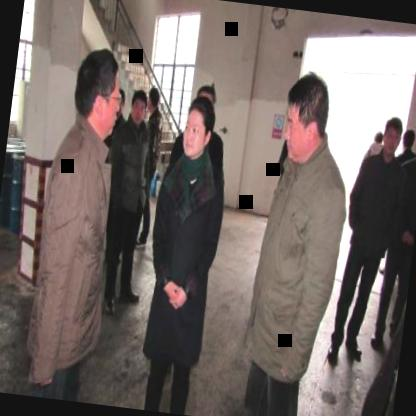head: (68, 42, 126, 144), (277, 67, 335, 166), (178, 90, 220, 162), (378, 113, 406, 156), (126, 86, 148, 130), (144, 81, 162, 116), (398, 123, 416, 157), (412, 124, 416, 162)
